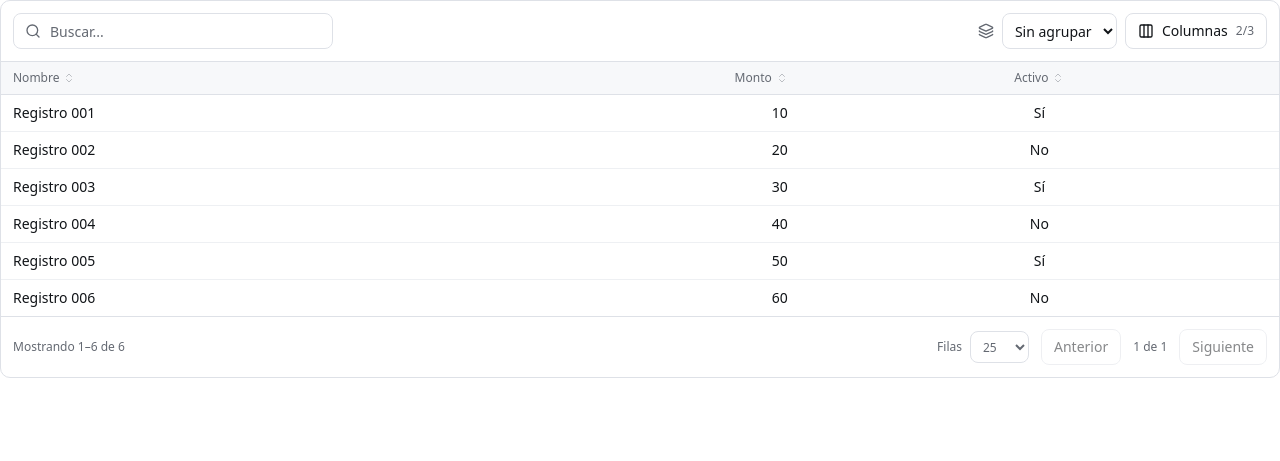
Test: agrupaciones › crea una fila por grupo al agrupar
Select "Activo" in the dropdown named "Agrupar por" at (1059,31), box [1002,13,1117,49]
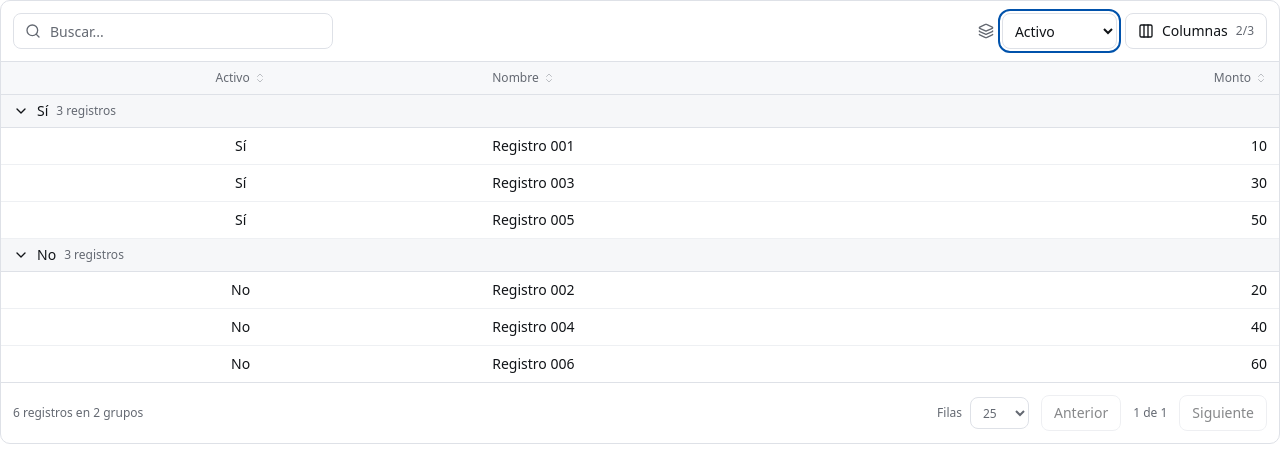
Now the button with aria-label "Grupo Sí" is shown, box [13,101,116,121]
Now the button with aria-label "Grupo No" is shown, box [13,245,124,265]
